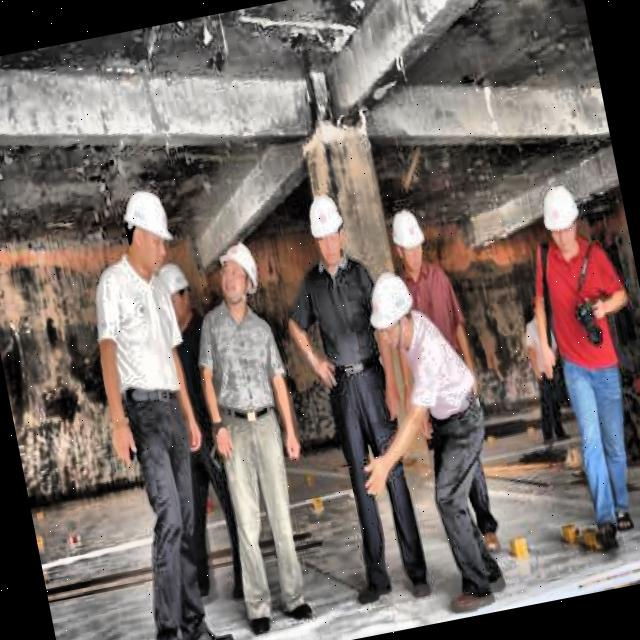helmet: (112, 181, 182, 280), (361, 271, 422, 359), (536, 174, 588, 253), (302, 190, 354, 267), (384, 200, 434, 280), (210, 238, 262, 312), (157, 262, 199, 328)
